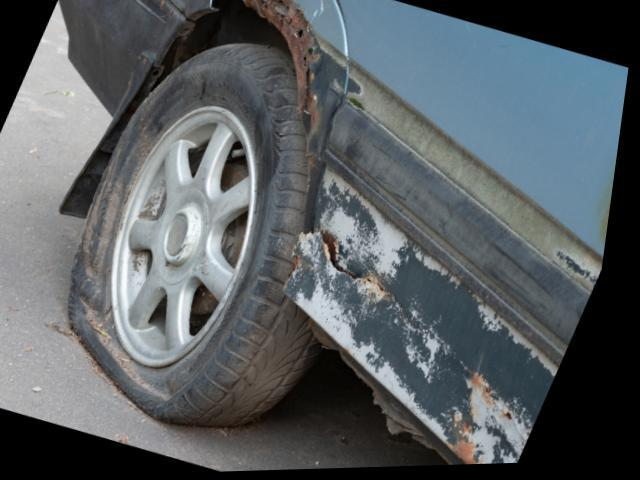crack: (323, 231, 418, 332)
tire flat: (75, 45, 331, 430)
